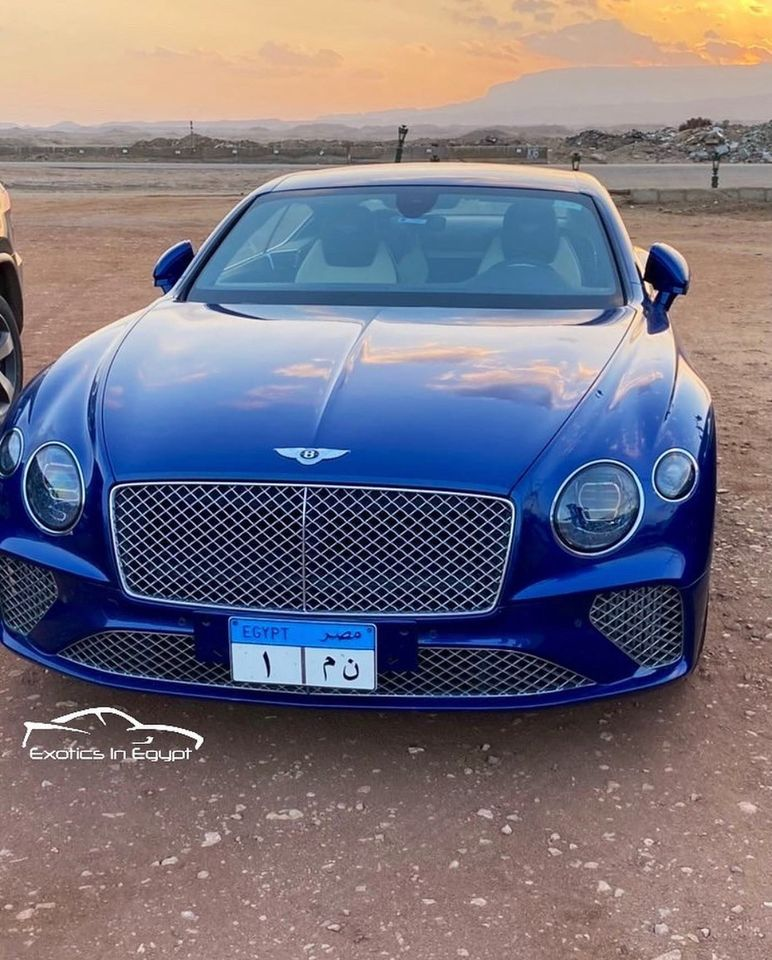carpl: (227, 628, 372, 686)
